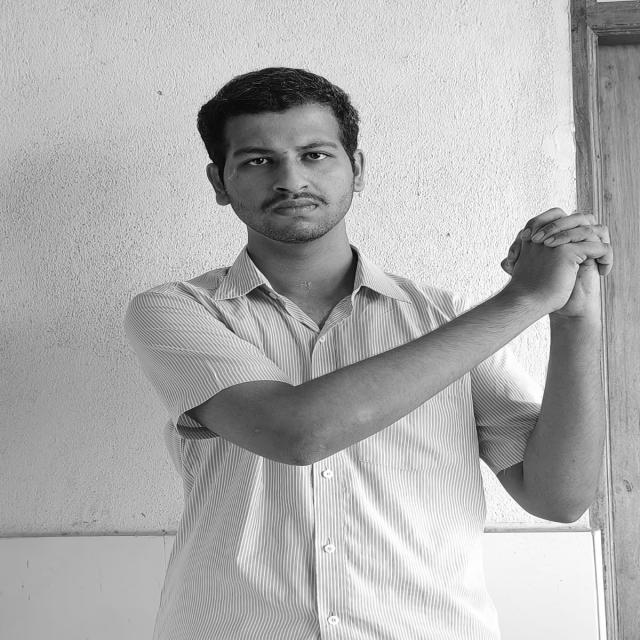Sorry: (500, 206, 612, 314)
